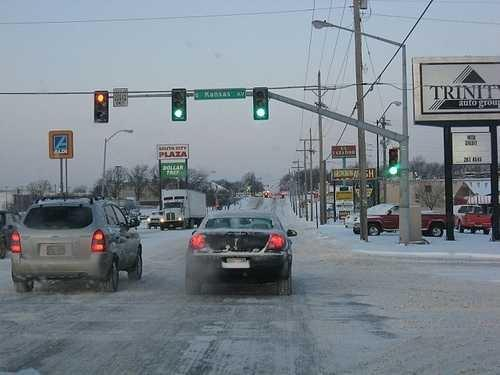2: (170, 82, 188, 126), (254, 86, 269, 120), (388, 144, 400, 180)
3: (254, 87, 266, 101), (172, 87, 186, 99), (388, 156, 400, 168), (388, 148, 400, 158), (172, 99, 184, 108), (256, 98, 266, 107)
8: (92, 86, 110, 127)
red traffic light: (172, 108, 186, 120), (388, 166, 400, 178), (254, 108, 267, 118)
